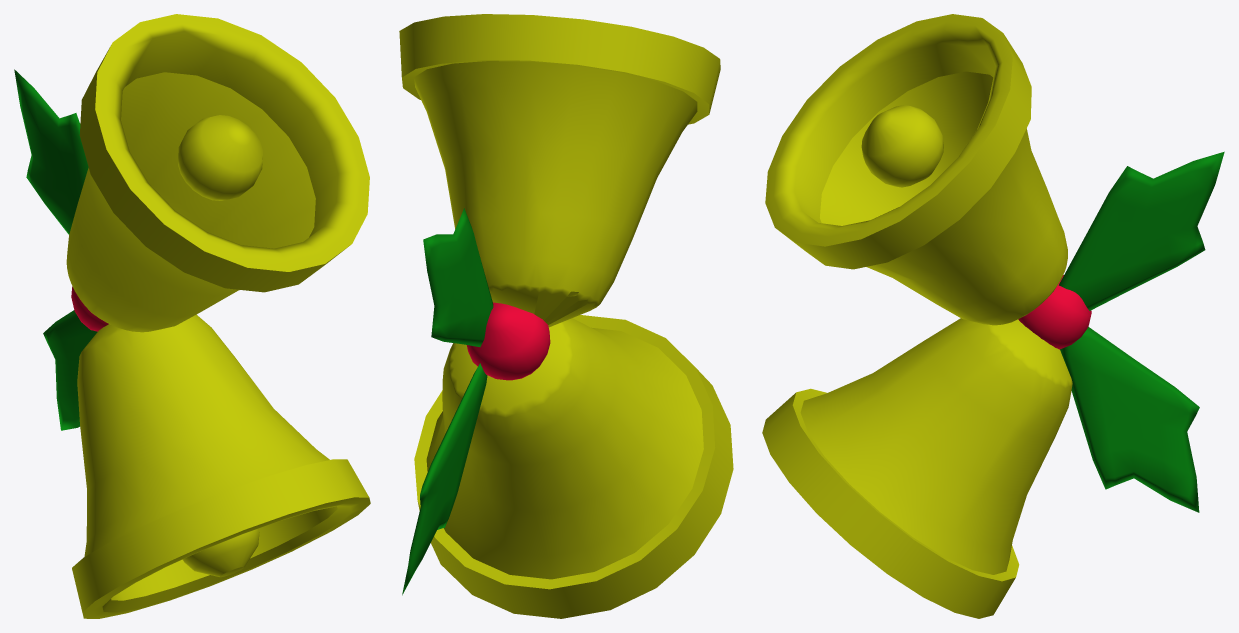
File: Bell.fbx
3 renders of one model, left to right at view 1: azimuth 30°, elevation 25°; view 2: azimuth 150°, elevation 25°; view 3: azimuth 270°, elevation 25°, orthographic. The views are drawn at different scales.
Visible parts, largest first — view 1: polySurface2.001; view 2: polySurface2.001; view 3: polySurface2.001.
Boxes of the visible parts, x1,y1,x2,y2 form: polySurface2.001: (14, 14, 370, 618); polySurface2.001: (399, 14, 733, 618); polySurface2.001: (762, 14, 1224, 618).
Bounding box in the file's own units: 0.4195 × 0.84 × 0.6298.
